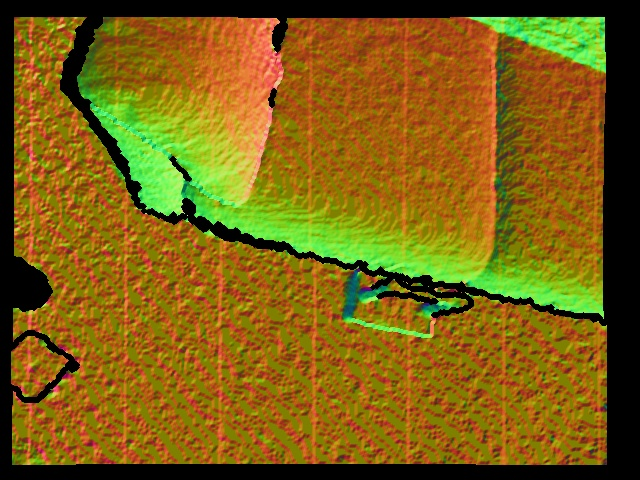station: (341, 266, 469, 342)
